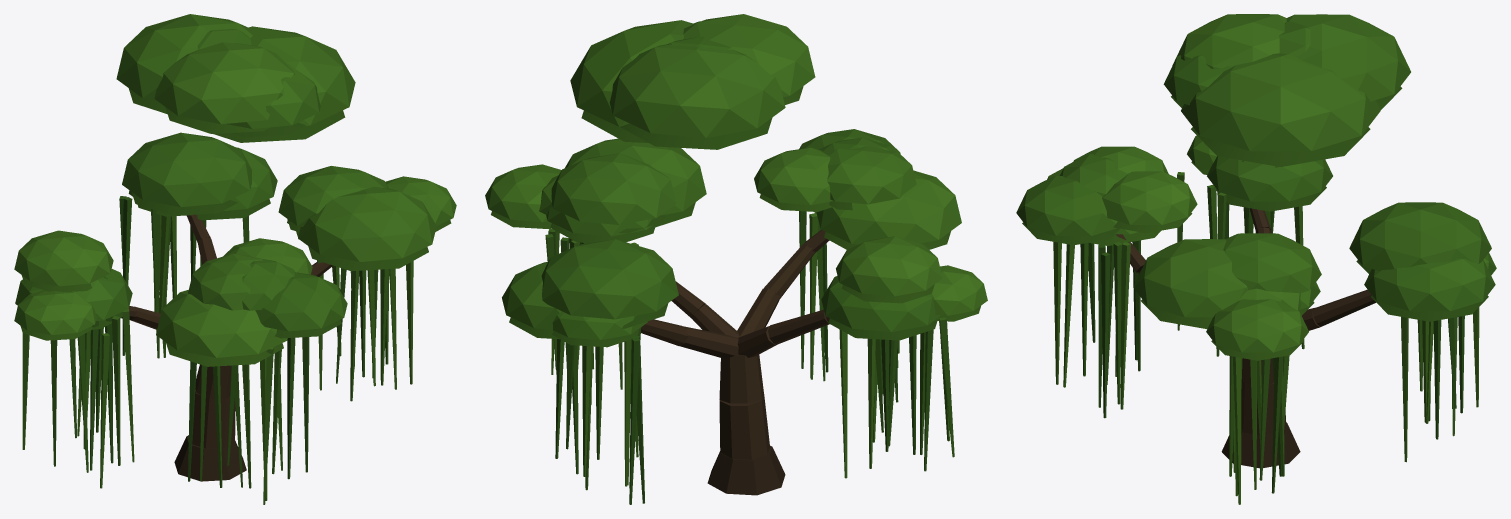
Rendered from tree_willow_1.glb.
3 renders of one model, left to right at view 1: azimuth 30°, elevation 25°; view 2: azimuth 150°, elevation 25°; view 3: azimuth 270°, elevation 25°, orthographic. The views are drawn at different scales.
Visible parts, largest first — view 1: leaf, wood; view 2: leaf, wood; view 3: leaf, wood.
Boxes of the visible parts, left/top/right/bottom form: leaf: left=14, top=14, right=456, bottom=504; wood: left=121, top=214, right=332, bottom=481; leaf: left=485, top=14, right=987, bottom=504; wood: left=641, top=230, right=829, bottom=495; leaf: left=1016, top=14, right=1496, bottom=504; wood: left=1116, top=208, right=1375, bottom=468.
Bounding box in the file's own units: 10.18 × 9.16 × 9.13.
